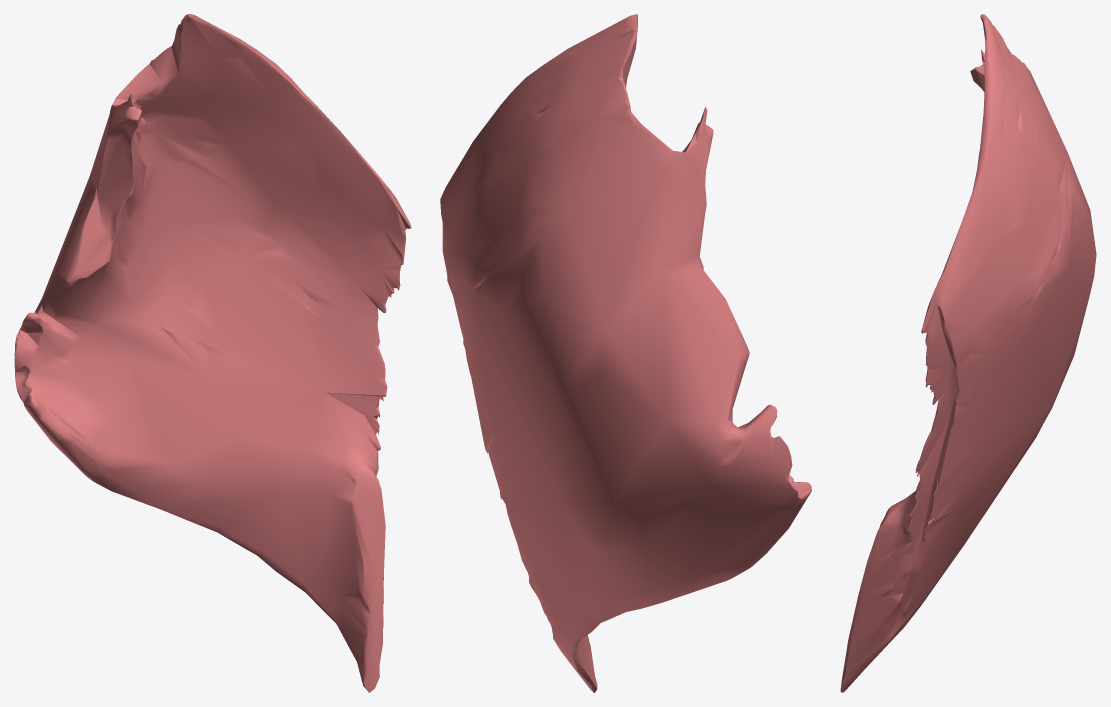
The picture shows the model from 3 angles, left to right: view 1: azimuth 30°, elevation 25°; view 2: azimuth 150°, elevation 25°; view 3: azimuth 270°, elevation 25°; orthographic projection. The views are drawn at different scales.
Visible parts, largest first — view 1: FJ1418M; view 2: FJ1418M; view 3: FJ1418M.
Boxes of the visible parts, left/top/right/bottom form: FJ1418M: left=14, top=14, right=411, bottom=692; FJ1418M: left=440, top=14, right=811, bottom=692; FJ1418M: left=840, top=14, right=1096, bottom=692.
Bounding box in the file's own units: 0.1461 × 0.2634 × 0.0973.
